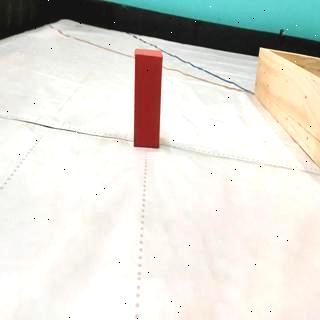redbox: (133, 47, 163, 148)
